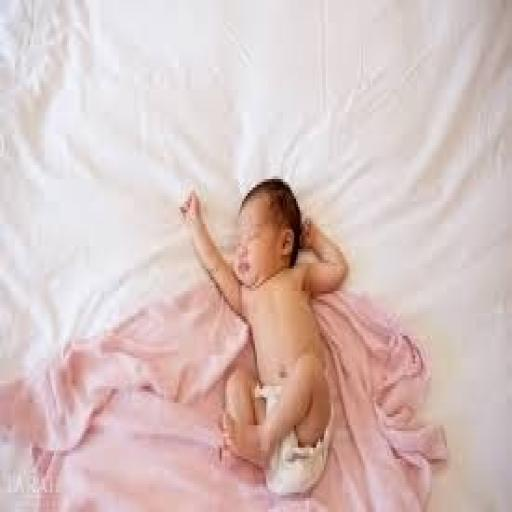sleeping: (177, 173, 350, 498)
